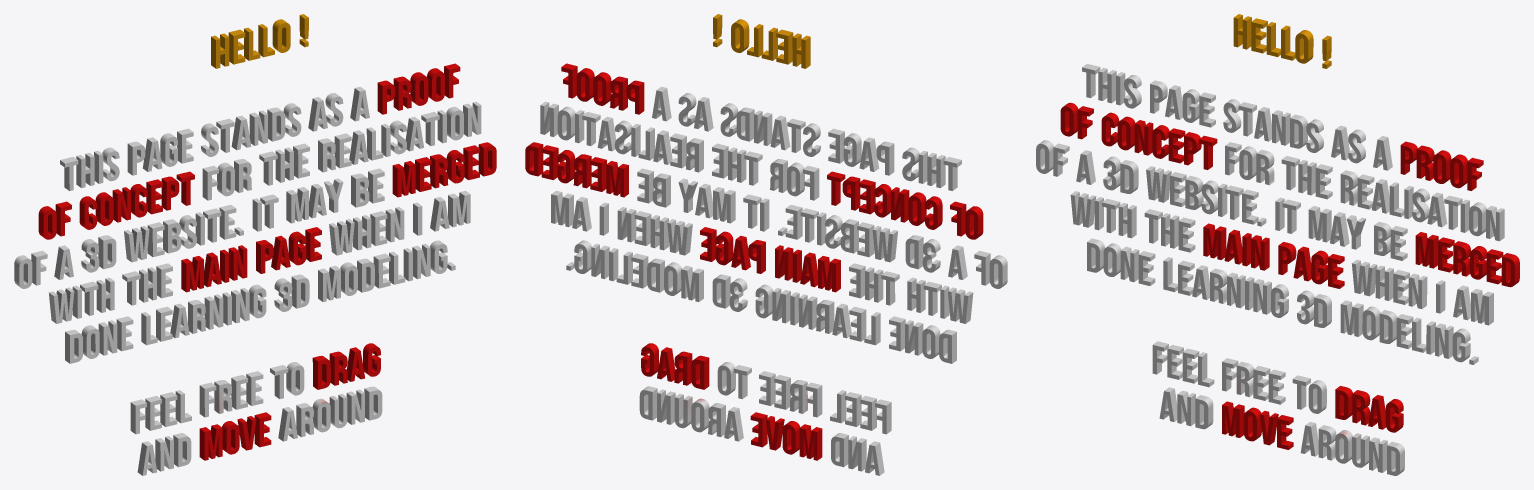
3 views of the same model, side by side, from view 1: azimuth 30°, elevation 25°; view 2: azimuth 150°, elevation 25°; view 3: azimuth 330°, elevation 25° (orthographic).
Parts seen in each view (by area): view 1: text; view 2: text; view 3: text.
Part boxes in pixels (<box>): text: <box>14,14,496,475</box>; text: <box>525,14,1007,475</box>; text: <box>1036,14,1519,475</box>.
Bounding box in the file's own units: 201 × 168 × 3.8.
